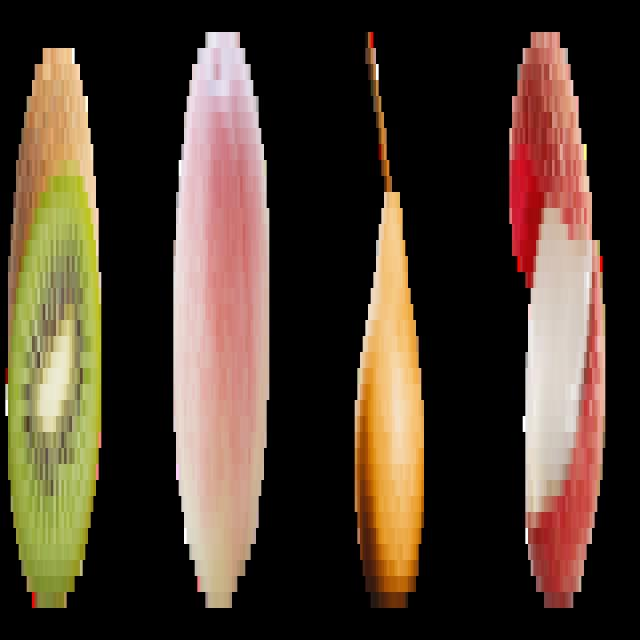kiwifruit: (4, 32, 104, 620)
lychee: (506, 23, 608, 622)
peach: (171, 23, 271, 622)
pear: (350, 19, 427, 620)
